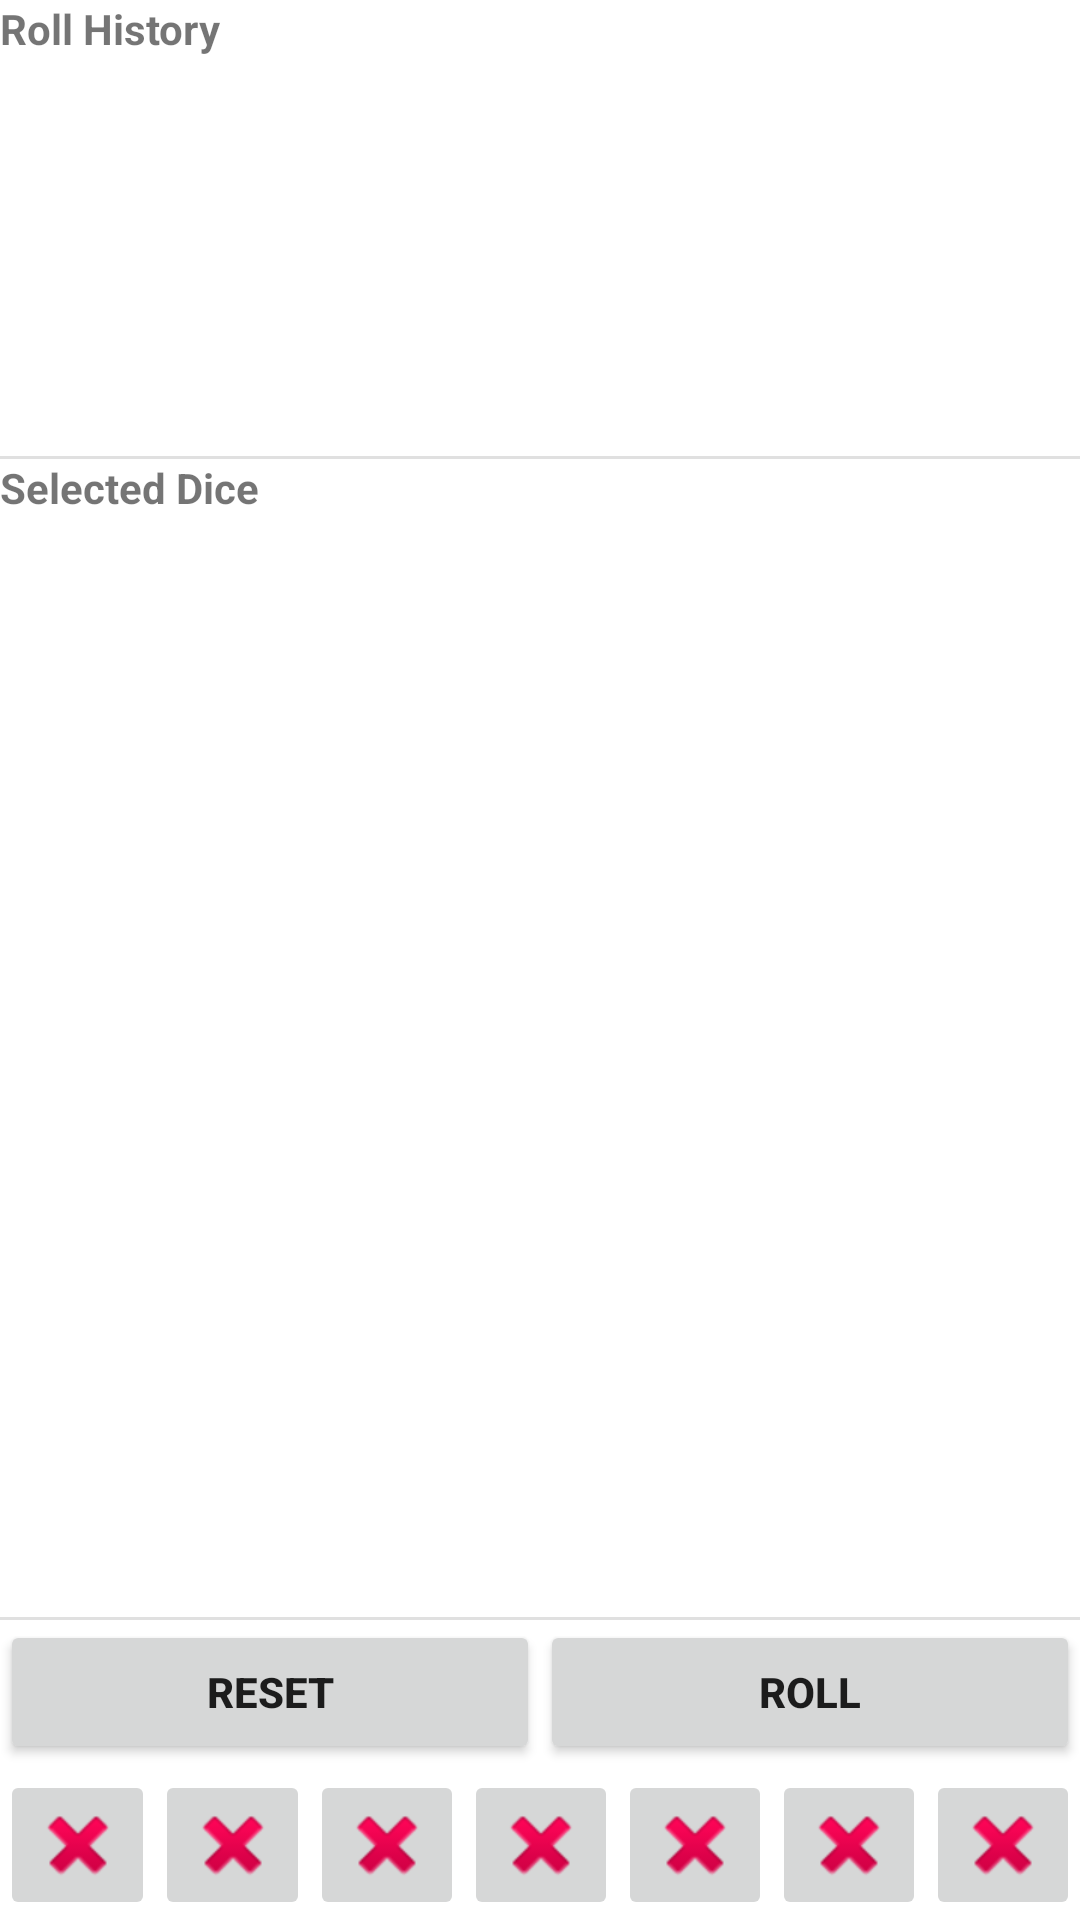

Named icons in this screenshot (1080px×1920px) and their centers, (x=x, y=y):
delete: (x=77, y=1845), (x=232, y=1845), (x=387, y=1845), (x=541, y=1845), (x=695, y=1845), (x=849, y=1845), (x=1003, y=1845)
